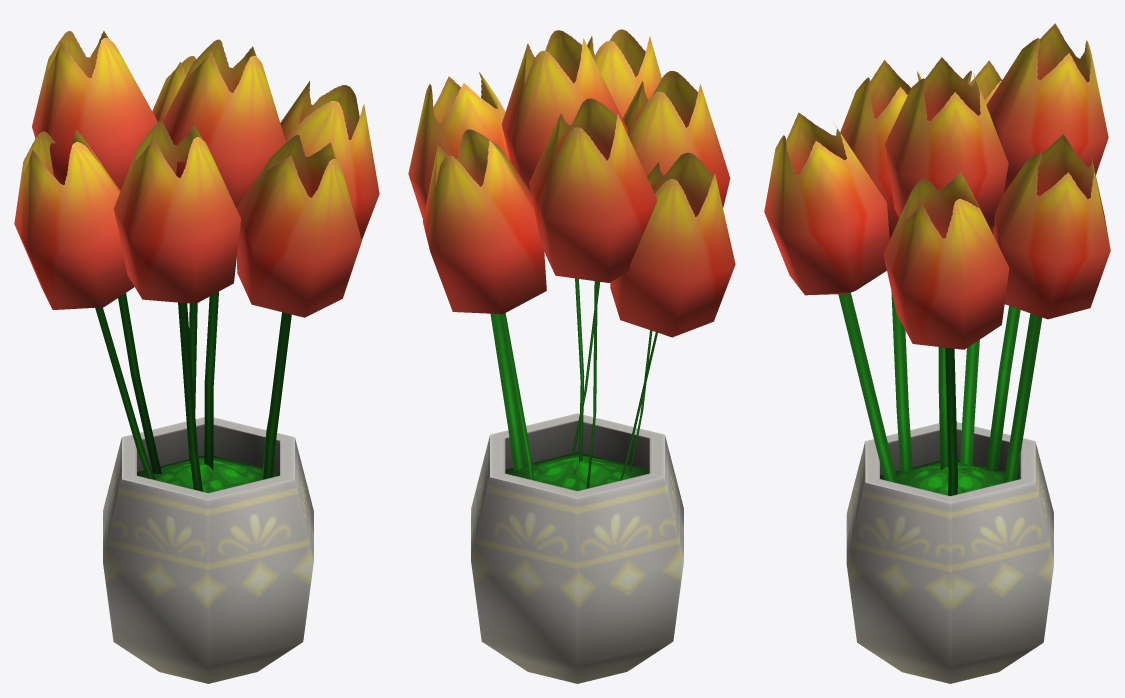
Rendered from TulipPot_04.FBX.
The picture shows the model from 3 angles, left to right: view 1: azimuth 30°, elevation 25°; view 2: azimuth 150°, elevation 25°; view 3: azimuth 270°, elevation 25°; orthographic projection. The views are drawn at different scales.
Parts seen in each view (by area): view 1: TulipPot_04; view 2: TulipPot_04; view 3: TulipPot_04.
Boxes of the visible parts, bbox=[...] form: TulipPot_04: bbox=[14, 30, 379, 683]; TulipPot_04: bbox=[408, 29, 735, 683]; TulipPot_04: bbox=[764, 23, 1110, 683].
Size of the model in its own units: 0.2773 by 0.5024 by 0.2574.
